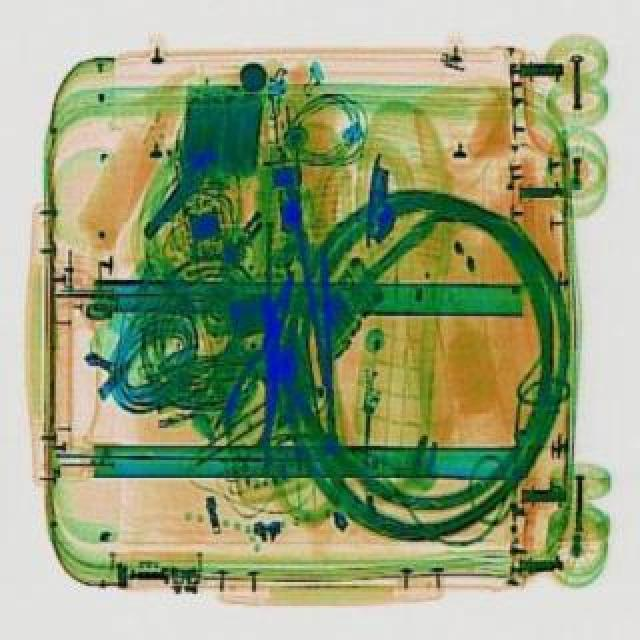wrench: (216, 268, 316, 444)
